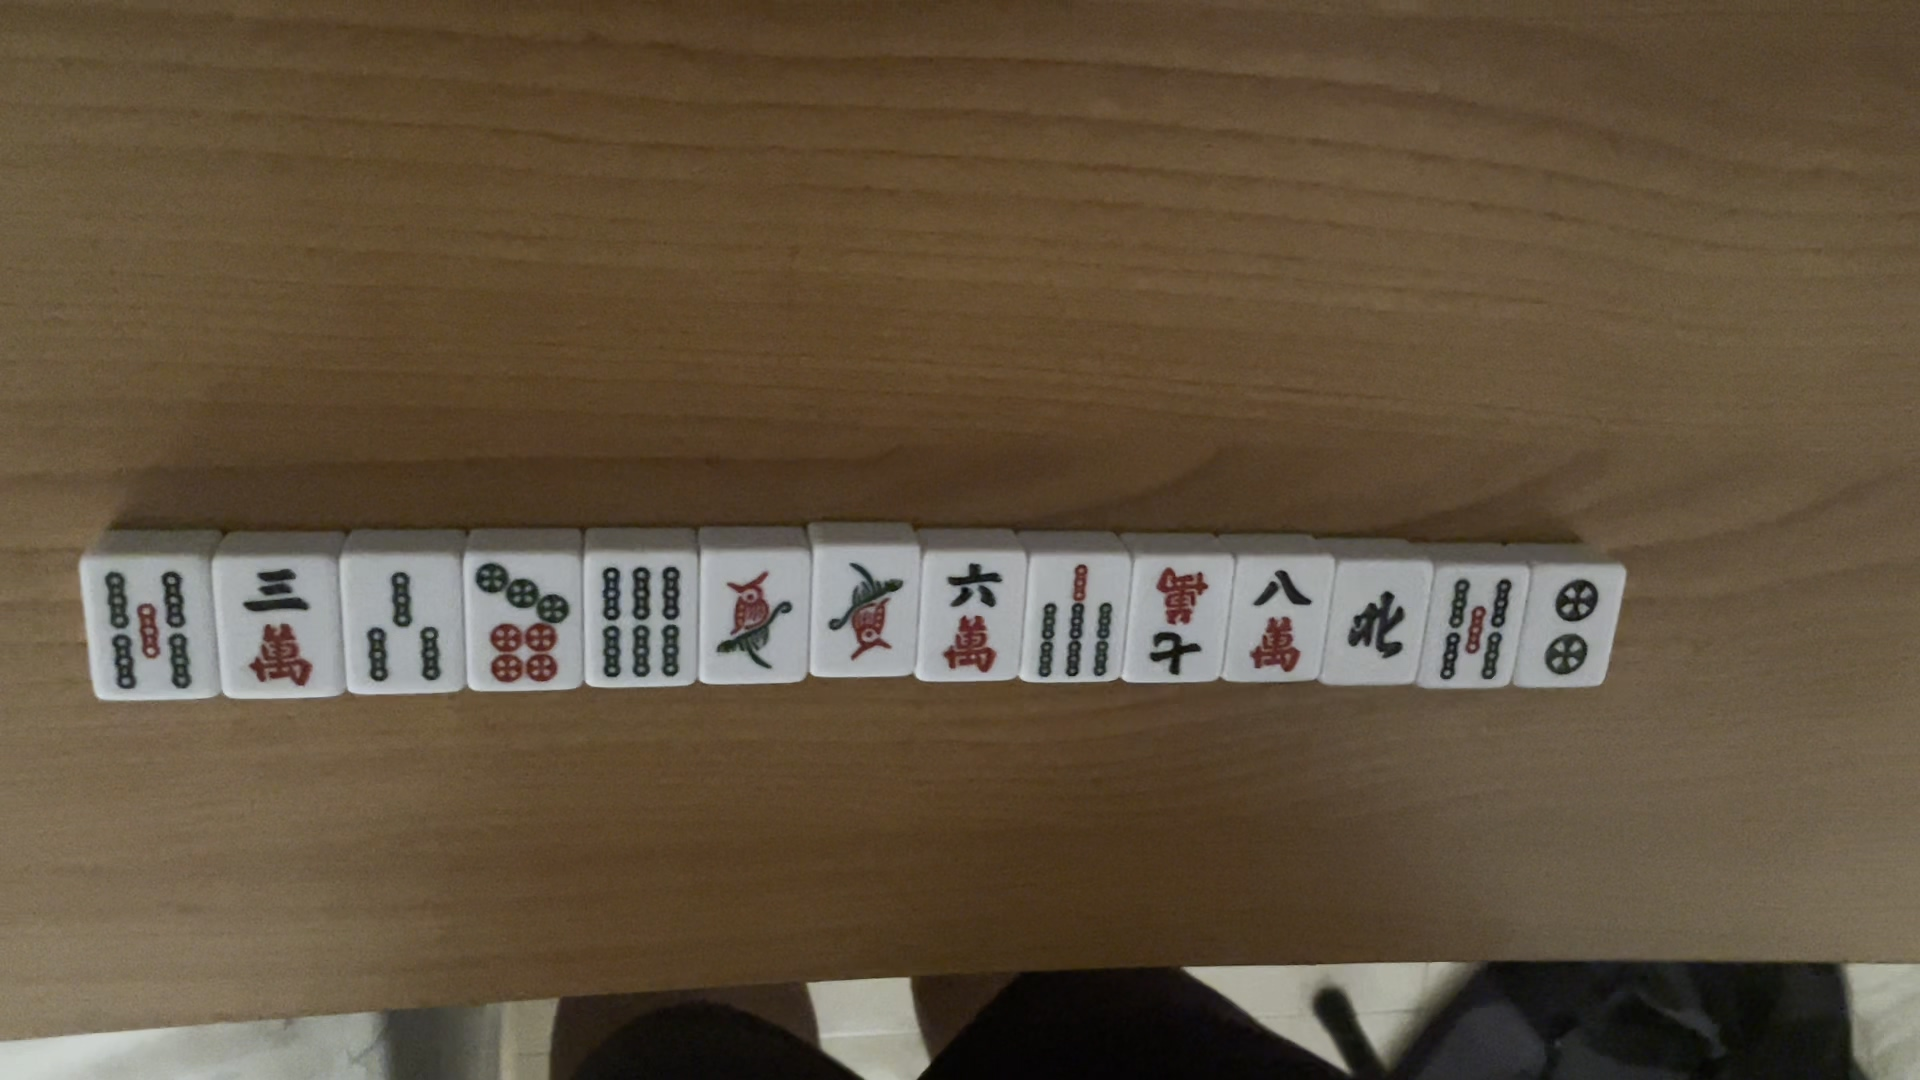b-1: (715, 570, 794, 676), (825, 553, 905, 659)
b-3: (360, 566, 444, 684)
b-5: (91, 556, 196, 696), (1436, 567, 1518, 686)
b-6: (593, 563, 680, 676)
b-7: (1033, 556, 1120, 680)
c-3: (233, 564, 320, 691)
c-6: (932, 566, 1013, 673)
c-7: (1149, 567, 1211, 679)
c-8: (1242, 560, 1312, 676)
d-2: (1535, 574, 1600, 680)
d-7: (473, 559, 568, 692)
honors-north: (1338, 580, 1414, 666)
